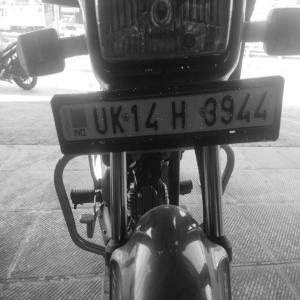Plate: (88, 85, 272, 141)
